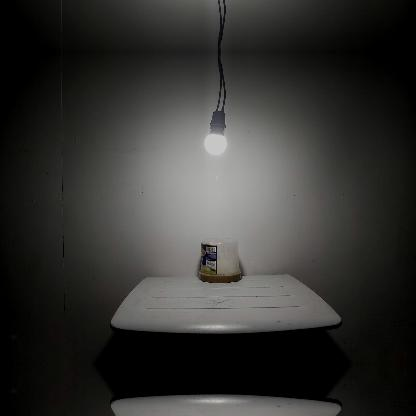Lady-s-Choice: (198, 237, 242, 283)
